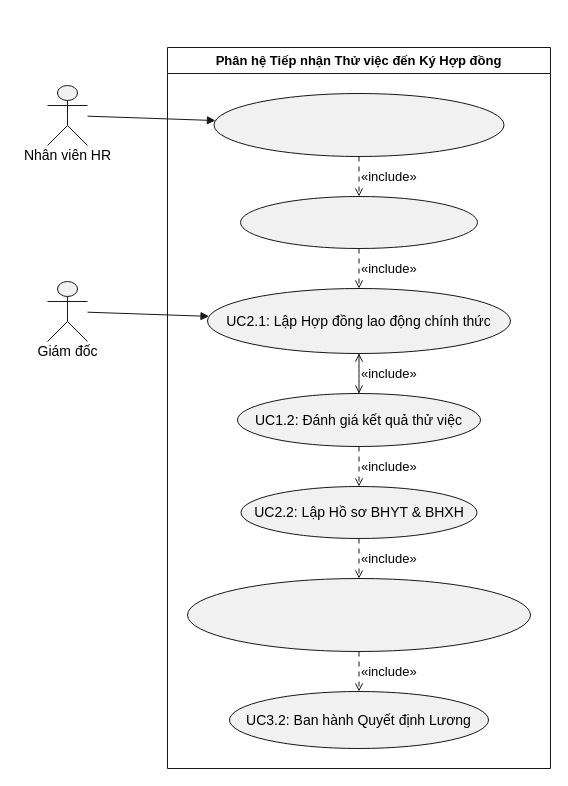
The diagram is 568 pixels wide and 786 high, and some of its shapes have lost their labels. The shapes that lost their labels are listed below. From the top down, each one's box as (x1, y1, x2, y2) in pixels, then its label:
(213, 92, 504, 156): UC01: Tuyển dụng & Thử việc nhân viên
(240, 196, 478, 248): UC1.1: Lập Quyết định thử việc
(186, 578, 530, 652): UC3.1: Ban hành Quyết định Chức vụ & Phụ cấp
